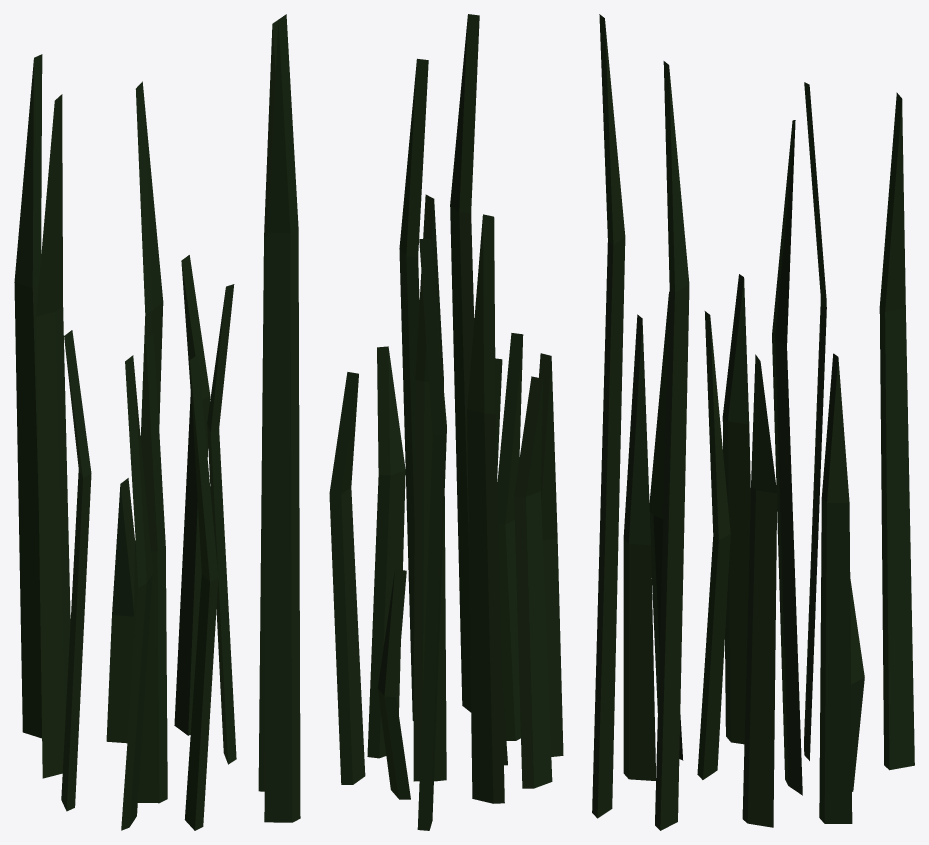
File: grass.obj
3 renders of one model, left to right at view 1: azimuth 30°, elevation 25°; view 2: azimuth 150°, elevation 25°; view 3: azimuth 270°, elevation 25°, orthographic. The views are drawn at different scales.
Parts seen in each view (by area): view 1: Grass_2; view 2: Grass_2; view 3: Grass_2.
Part boxes in pixels (x1,y1,x2,y2): Grass_2: (14, 14, 300, 830); Grass_2: (329, 14, 563, 830); Grass_2: (592, 14, 914, 830).
Size of the model in its own units: 0.3162 by 1.2 by 0.4417.
